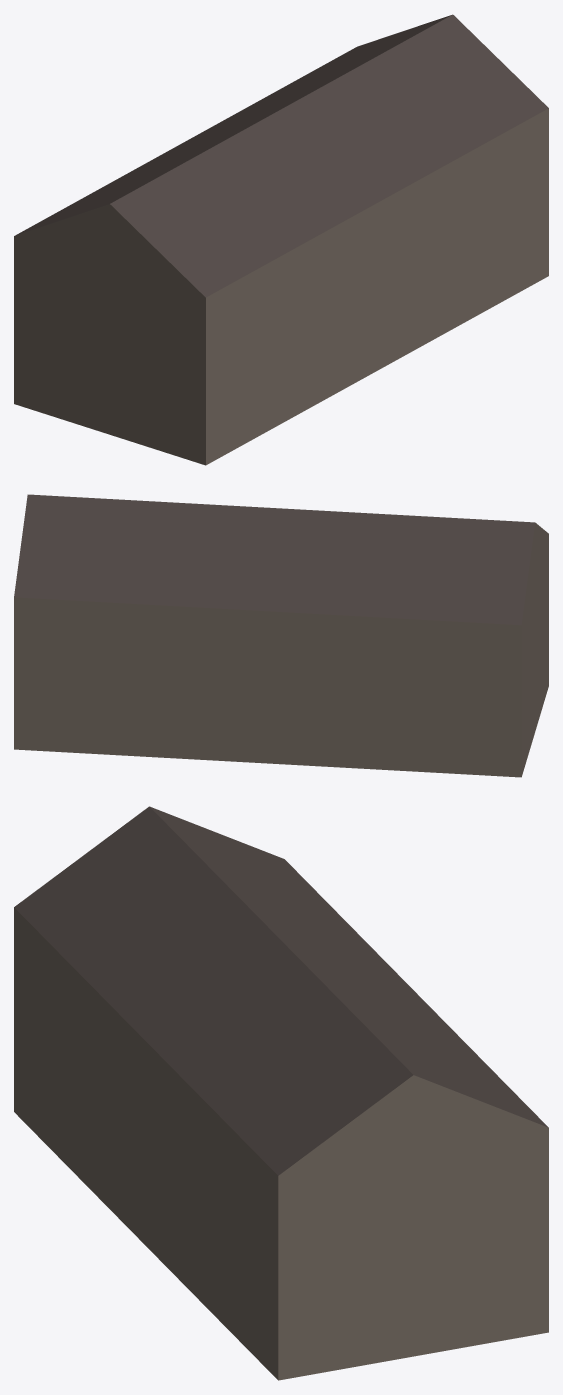
3 views of the same model, one above another, from view 1: azimuth 30°, elevation 25°; view 2: azimuth 150°, elevation 25°; view 3: azimuth 270°, elevation 25° (orthographic). The views are drawn at different scales.
Parts seen in each view (by area): view 1: HP-w369342514; view 2: HP-w369342514; view 3: HP-w369342514.
Boxes of the visible parts, box(x1,y1,x2,y2) form: HP-w369342514: box(14, 14, 548, 465); HP-w369342514: box(14, 494, 548, 777); HP-w369342514: box(14, 806, 548, 1380).
Bounding box in the file's own units: 29.87 × 12.38 × 21.32.
